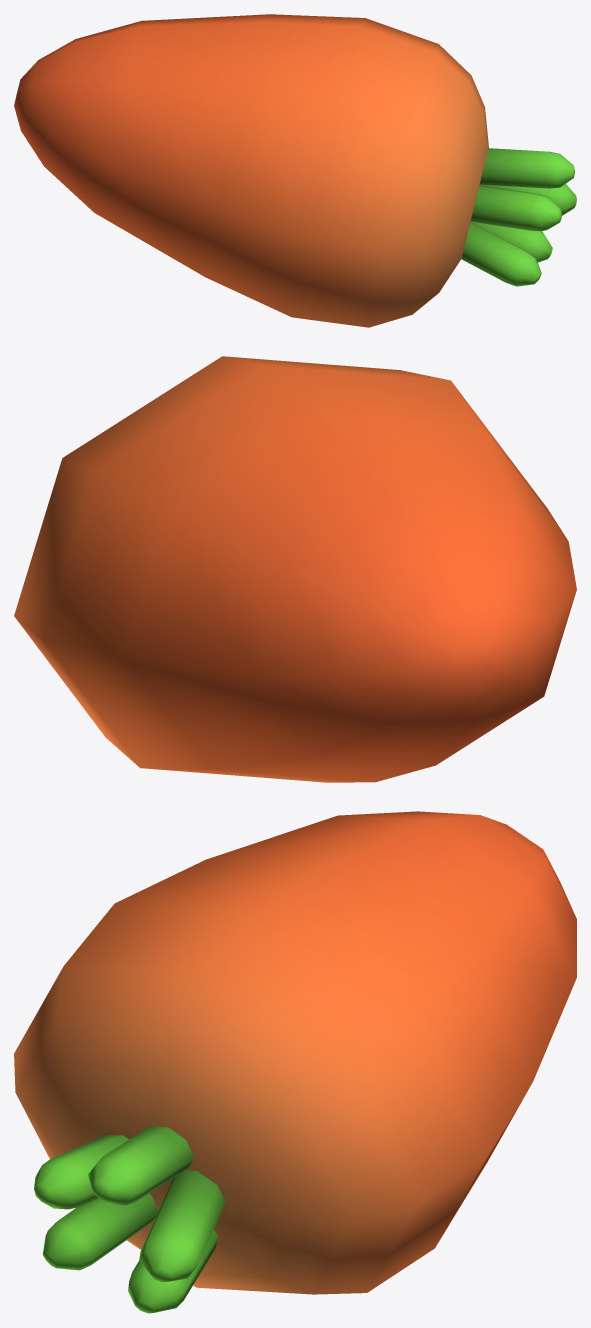
File: carrot.fbx
3 views of the same model, one above another, from view 1: azimuth 30°, elevation 25°; view 2: azimuth 150°, elevation 25°; view 3: azimuth 270°, elevation 25° (orthographic). The views are drawn at different scales.
Visible parts, largest first — view 1: carrot; view 2: carrot; view 3: carrot.
Boxes of the visible parts, bbox=[...] form: carrot: bbox=[14, 14, 576, 327]; carrot: bbox=[14, 356, 576, 782]; carrot: bbox=[14, 811, 576, 1313].
Size of the model in its own units: 0.2855 by 0.1764 by 0.2397.
